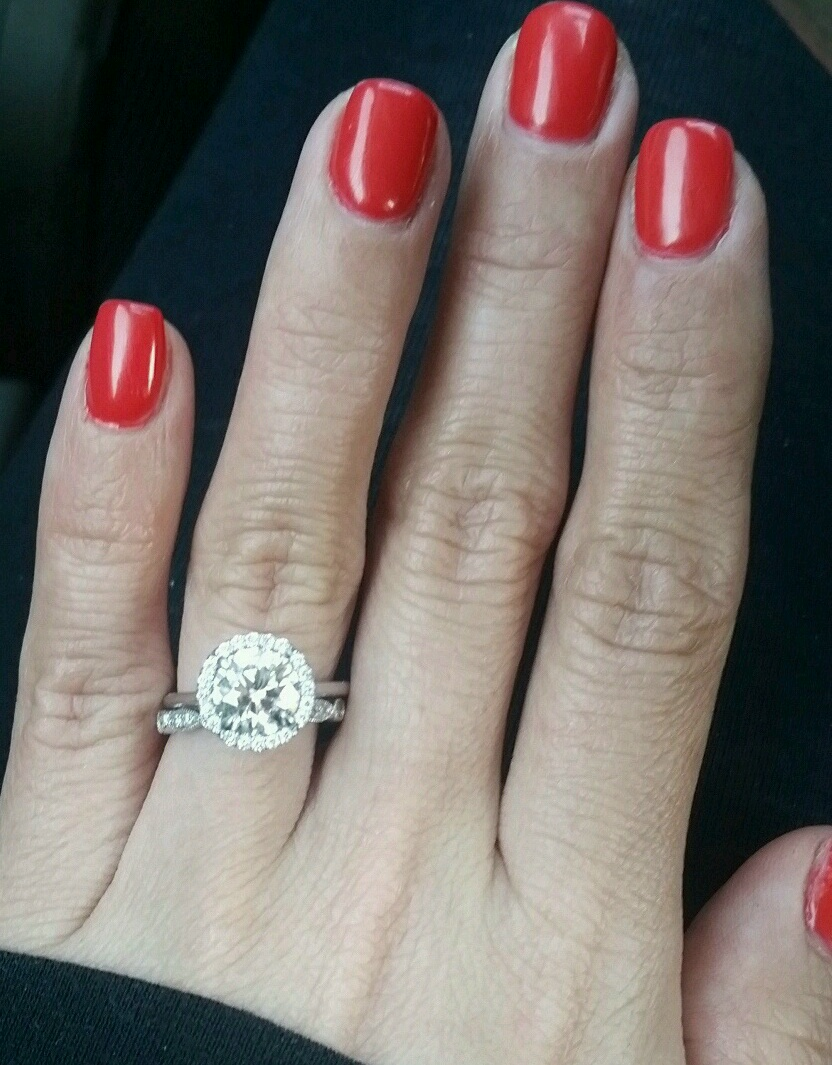finger: (304, 13, 638, 828), (154, 65, 442, 834), (511, 122, 763, 902), (33, 288, 174, 903)
